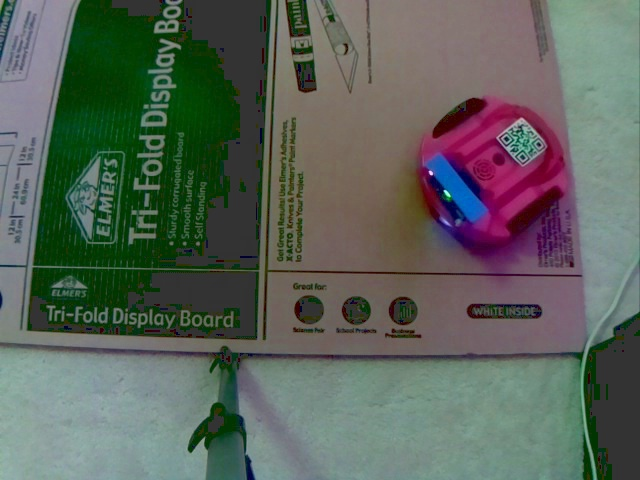board: (417, 148, 485, 225)
chassis: (411, 93, 576, 254)
